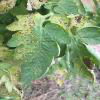Tomato leaf bacterial spot: (6, 8, 72, 94), (64, 39, 99, 84), (47, 12, 89, 30), (51, 0, 83, 16), (76, 26, 99, 44)
